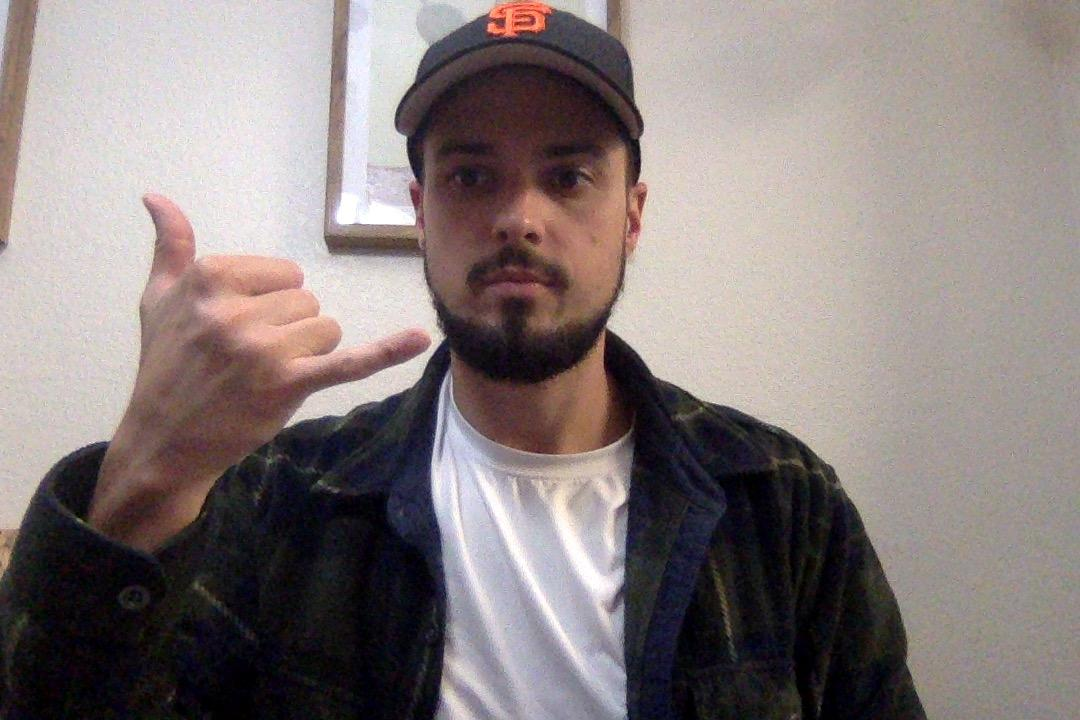Call-Me: (98, 182, 434, 510)
